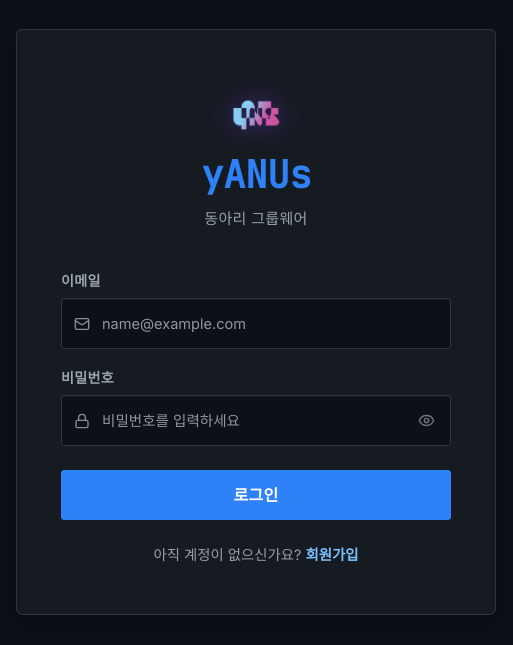
Test: Login 페이지 › 이메일 형식이 올바르지 않으면 에러를 표시한다
The width and height of the screenshot is (513, 645).
Type "invalid-email" into the field labelled "이메일" at (256, 324), box [61,298,451,349]
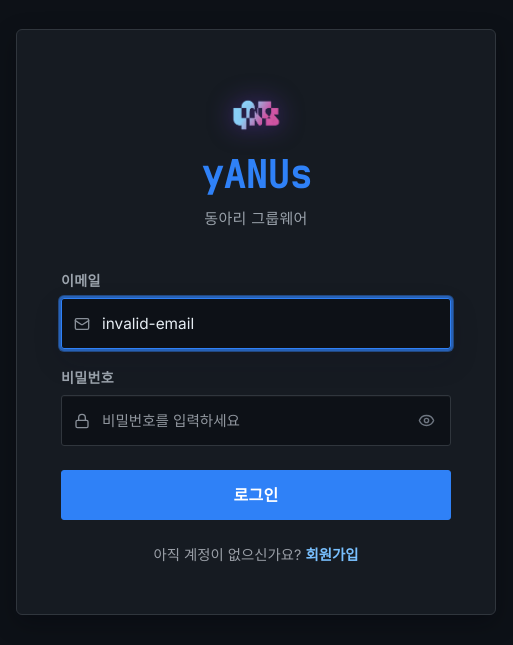
Type "password123" into the password field labelled "비밀번호" at (256, 421), box [61,395,451,446]
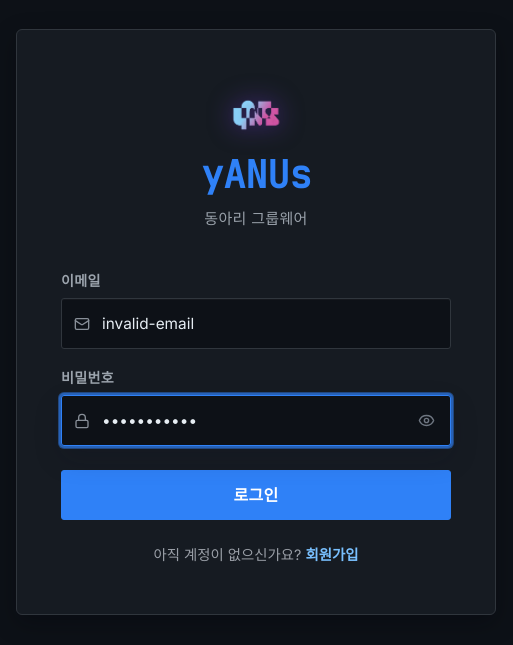
Click the button "로그인" at (256, 495), box [61,470,451,520]
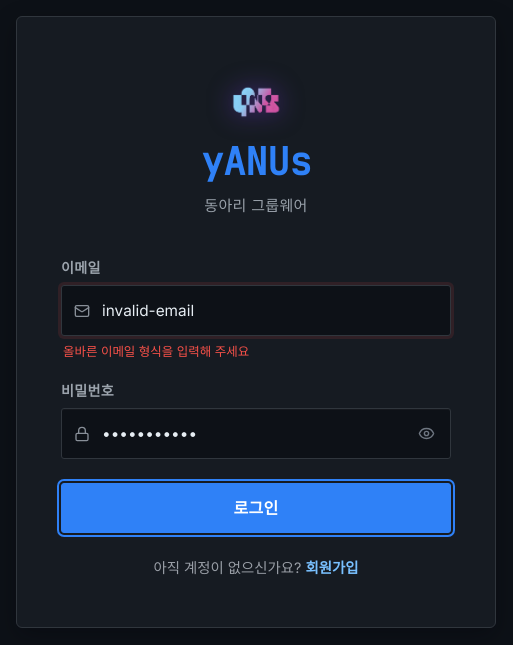
Now the text "올바른 이메일 형식을 입력해 주세요" is shown, box [63,344,249,359]
